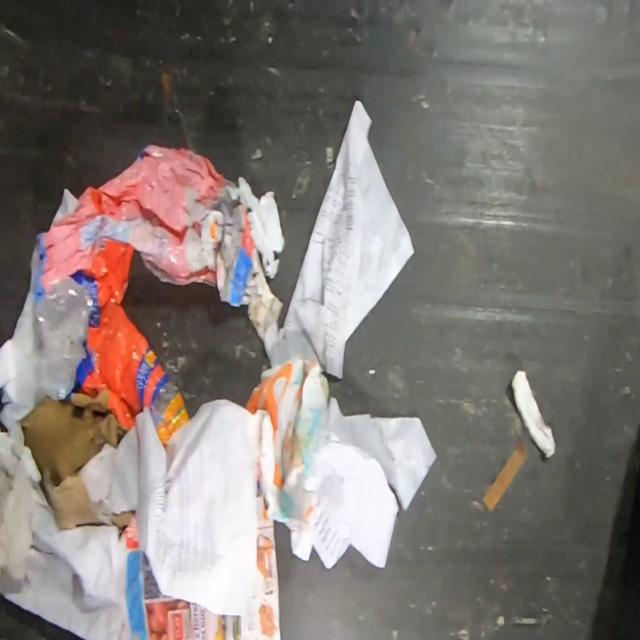cardboard: (18, 388, 137, 541)
soft_plastic: (30, 143, 226, 450)
